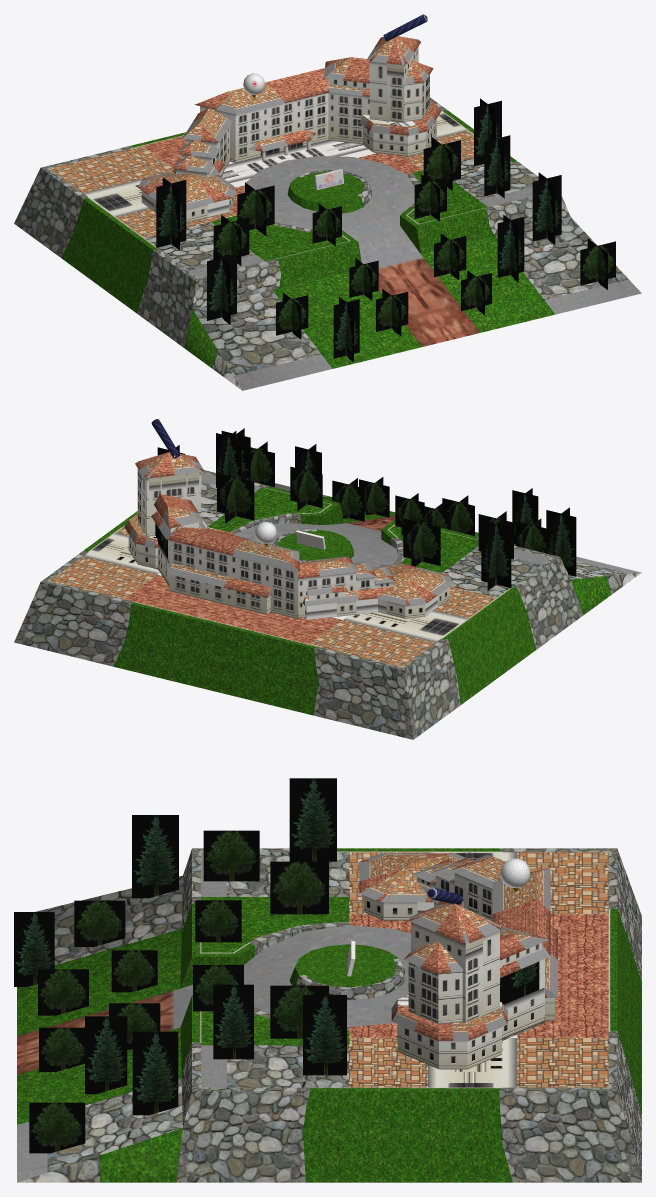
Rendered from Hotel.glb.
3 renders of one model, top to bottom at view 1: azimuth 30°, elevation 25°; view 2: azimuth 150°, elevation 25°; view 3: azimuth 270°, elevation 25°, orthographic. The views are drawn at different scales.
Visible parts, largest first — view 1: polygon1; view 2: polygon1; view 3: polygon1.
Part boxes in pixels (x1,y1,x2,y2): polygon1: (14, 14, 641, 390); polygon1: (14, 419, 641, 739); polygon1: (14, 778, 641, 1182).
Bounding box in the file's own units: 475 × 209 × 474.
Materials: 1 (1 with a texture image).
